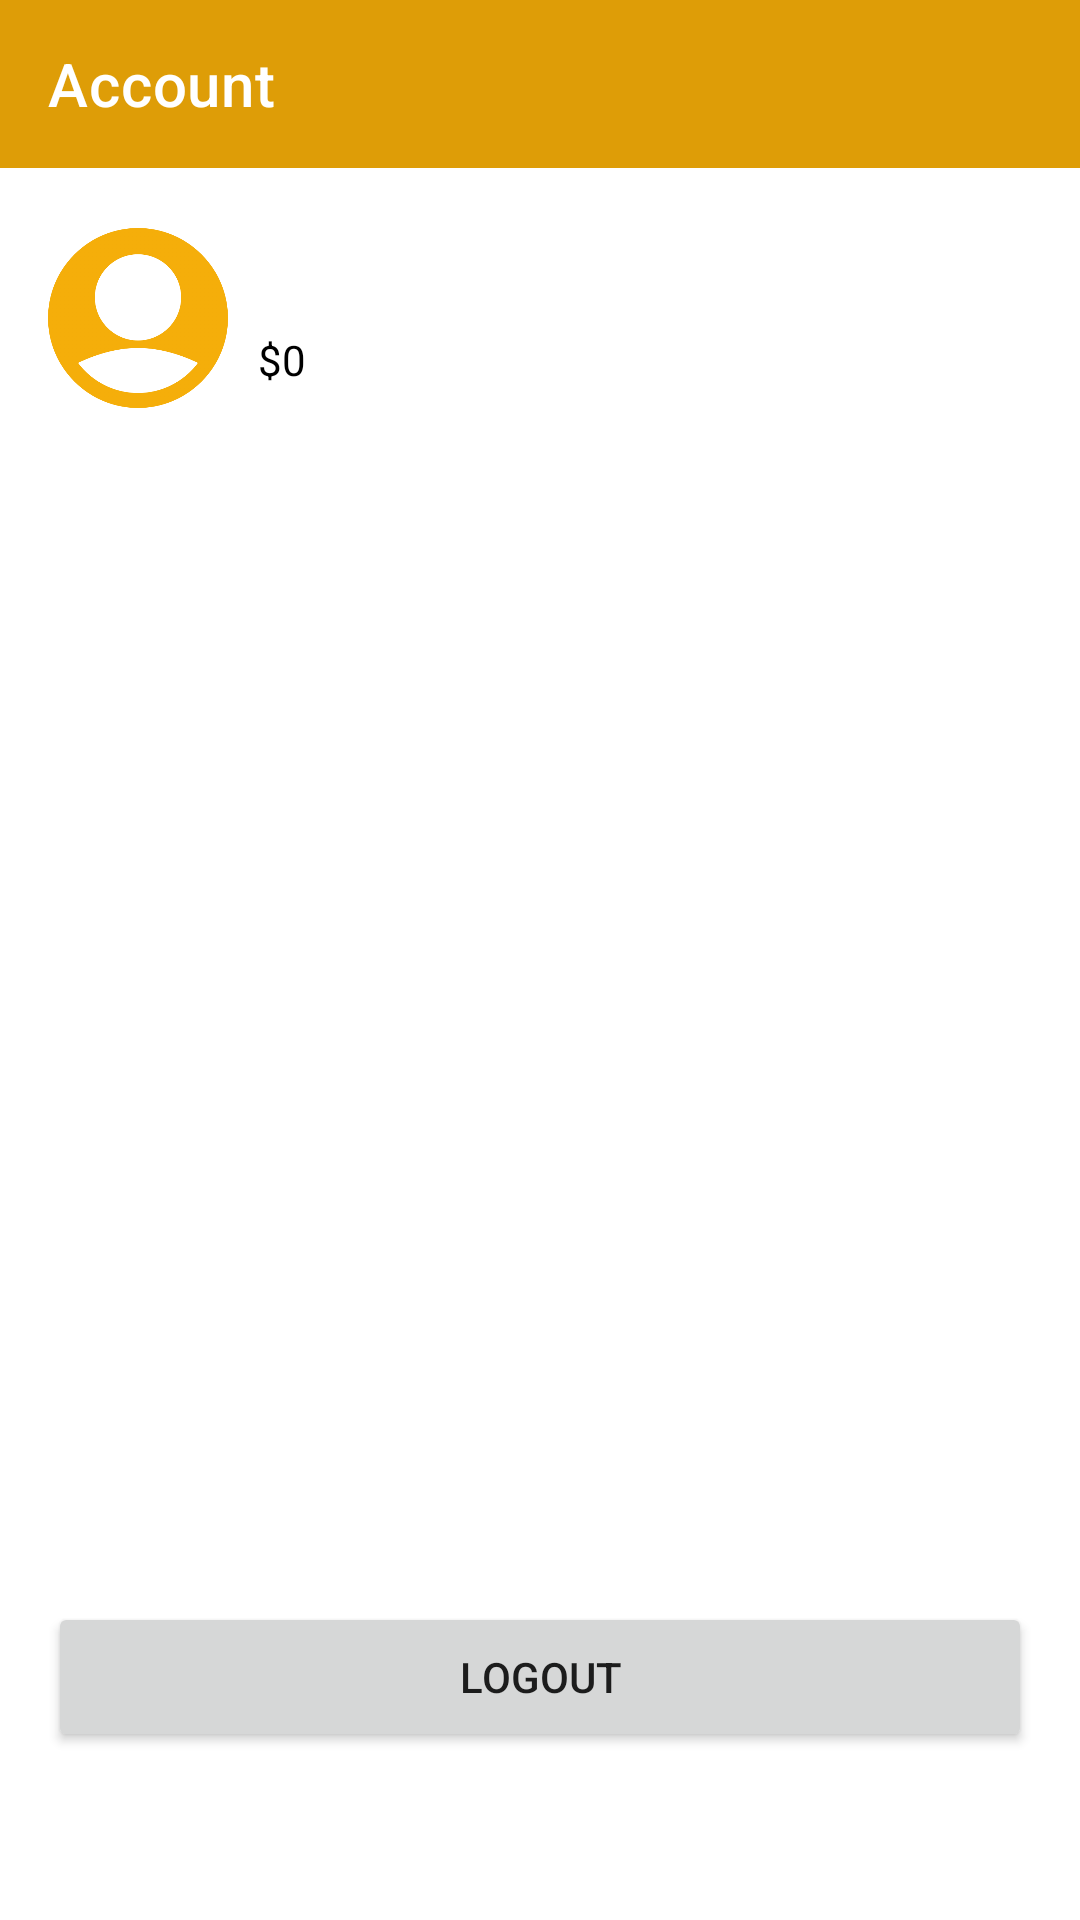

Named icons in this screenshot (1080w x 1920h) and their centers, (x,y):
user: (138,318)
